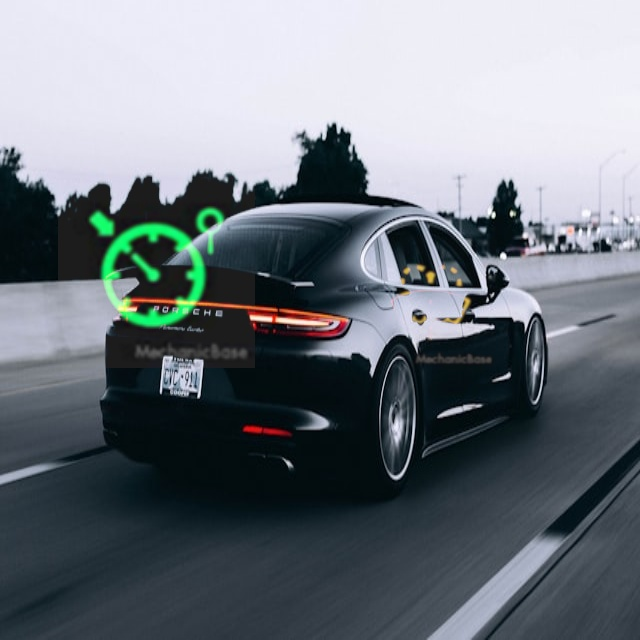symbol: (58, 171, 255, 368), (364, 237, 497, 370)
